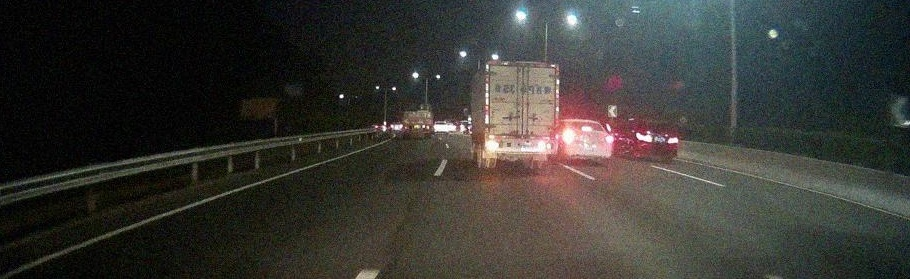L_light: (635, 132, 652, 143), (486, 141, 502, 150), (561, 133, 574, 142)
R_light: (539, 142, 552, 150), (603, 134, 614, 143), (666, 136, 678, 144)
T_light: (516, 64, 530, 70), (581, 126, 593, 132), (651, 121, 662, 125)
night-left: (482, 60, 559, 170), (560, 119, 614, 162)
night-no: (633, 120, 679, 160)
